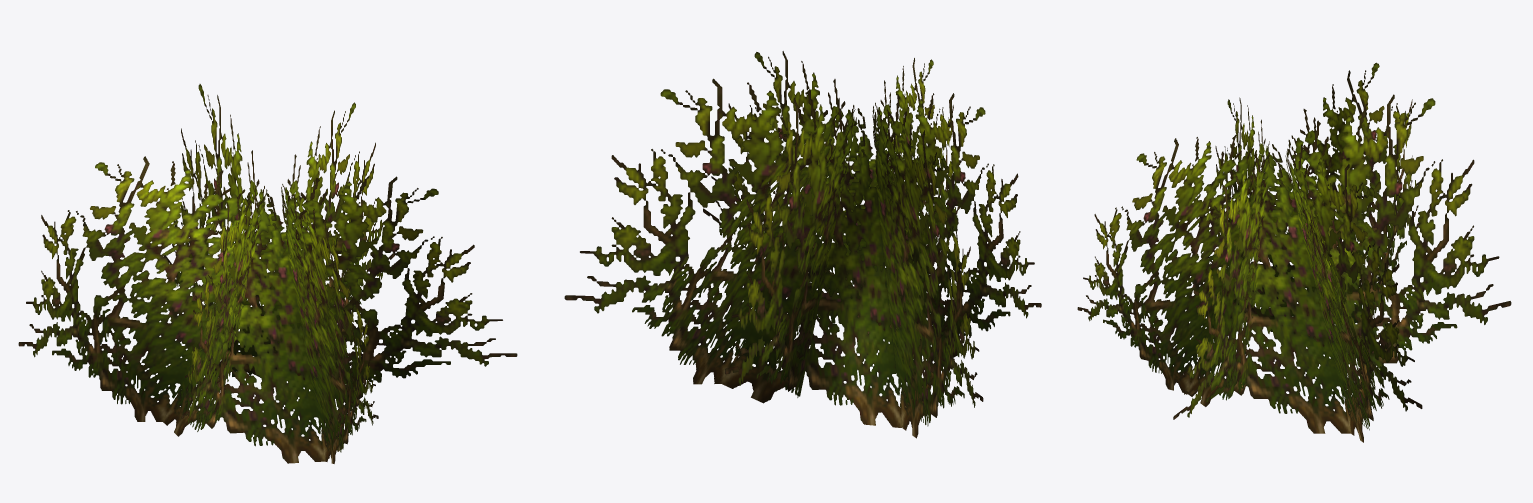
File: elwynnbush09.obj
3 renders of one model, left to right at view 1: azimuth 30°, elevation 25°; view 2: azimuth 150°, elevation 25°; view 3: azimuth 270°, elevation 25°, orthographic. The views are drawn at different scales.
Parts seen in each view (by area): view 1: elwynnbush09; view 2: elwynnbush09; view 3: elwynnbush09.
Boxes of the visible parts, x1=… form: elwynnbush09: x1=18, y1=84, x2=517, y2=463; elwynnbush09: x1=564, y1=51, x2=1041, y2=438; elwynnbush09: x1=1077, y1=62, x2=1511, y2=442.
Bounding box in the file's own units: 5.73 × 4.66 × 5.66.
Materials: 1 (1 with a texture image).
